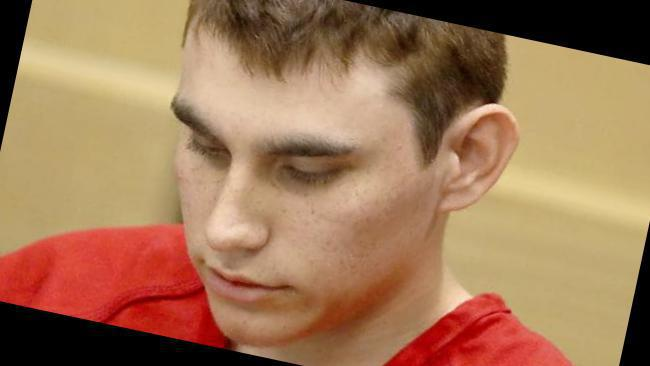Sober: (180, 62, 395, 318)
